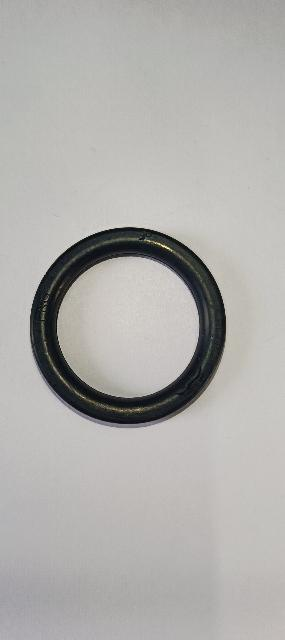scratch: (176, 359, 204, 400)
